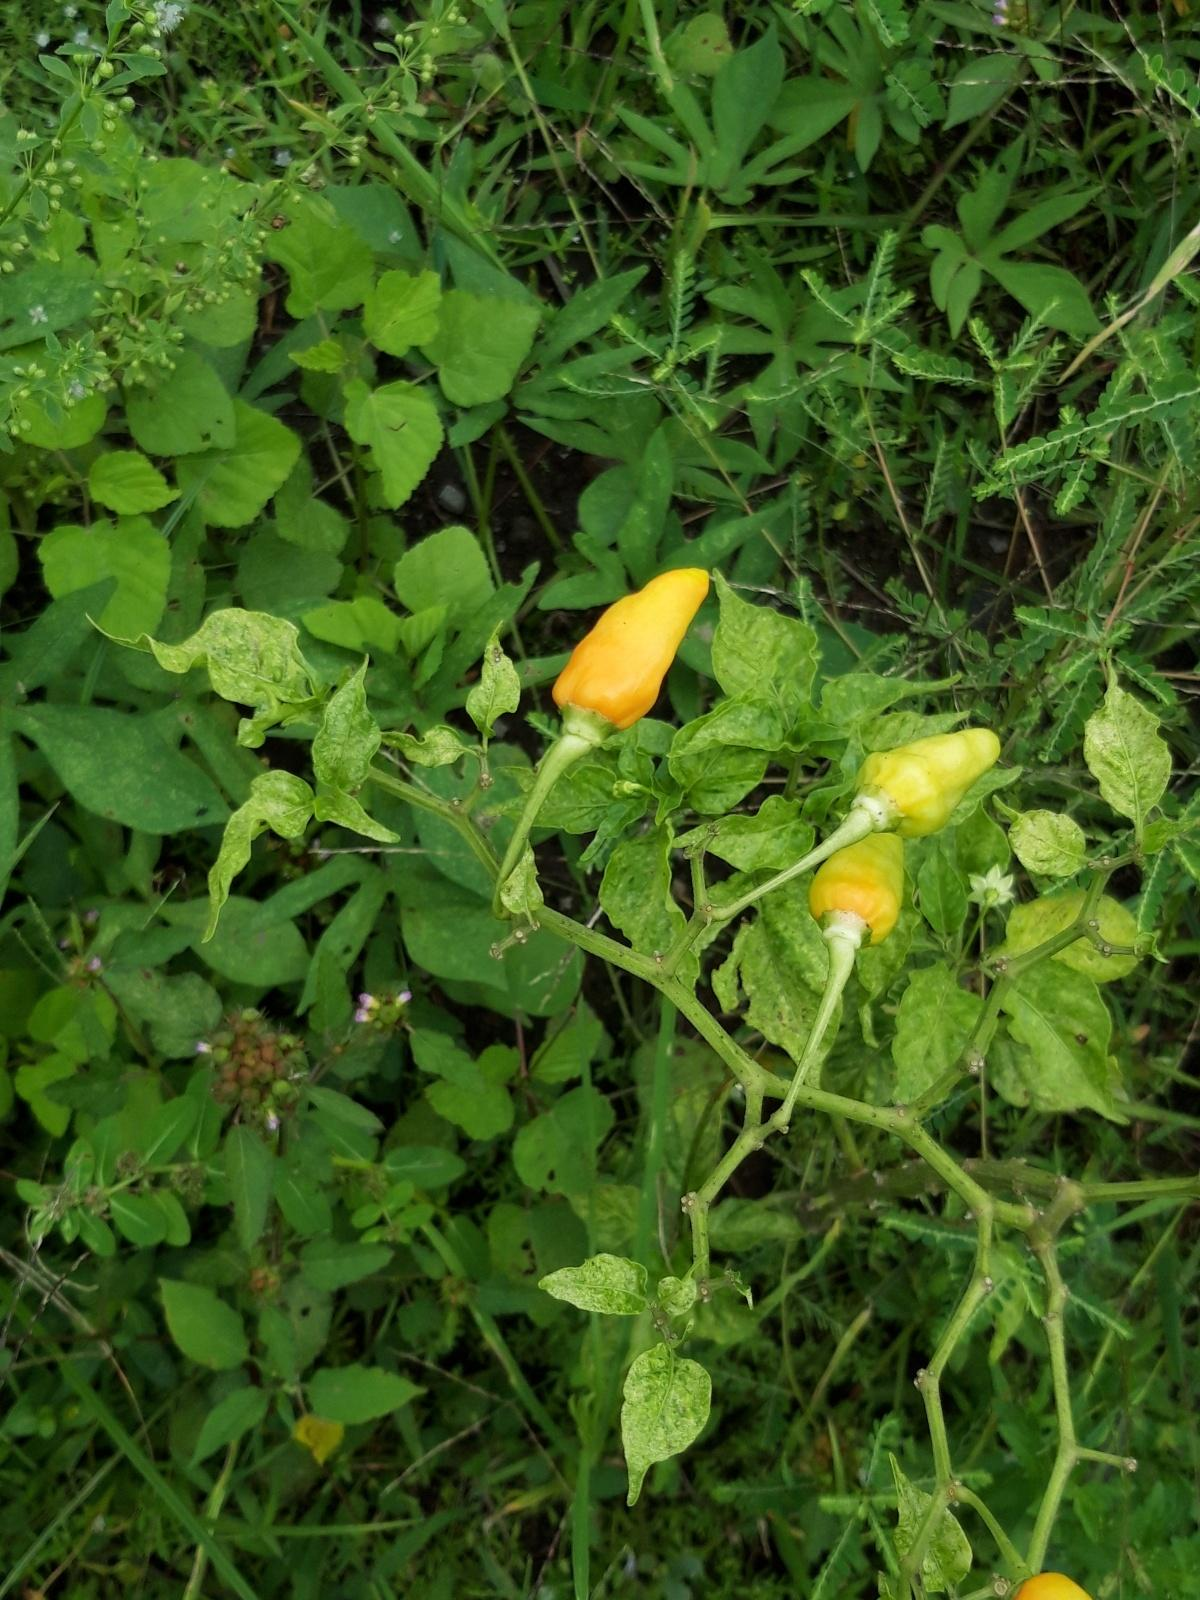cabai_normal: (552, 567, 711, 726), (858, 727, 1001, 835), (807, 833, 905, 945)
